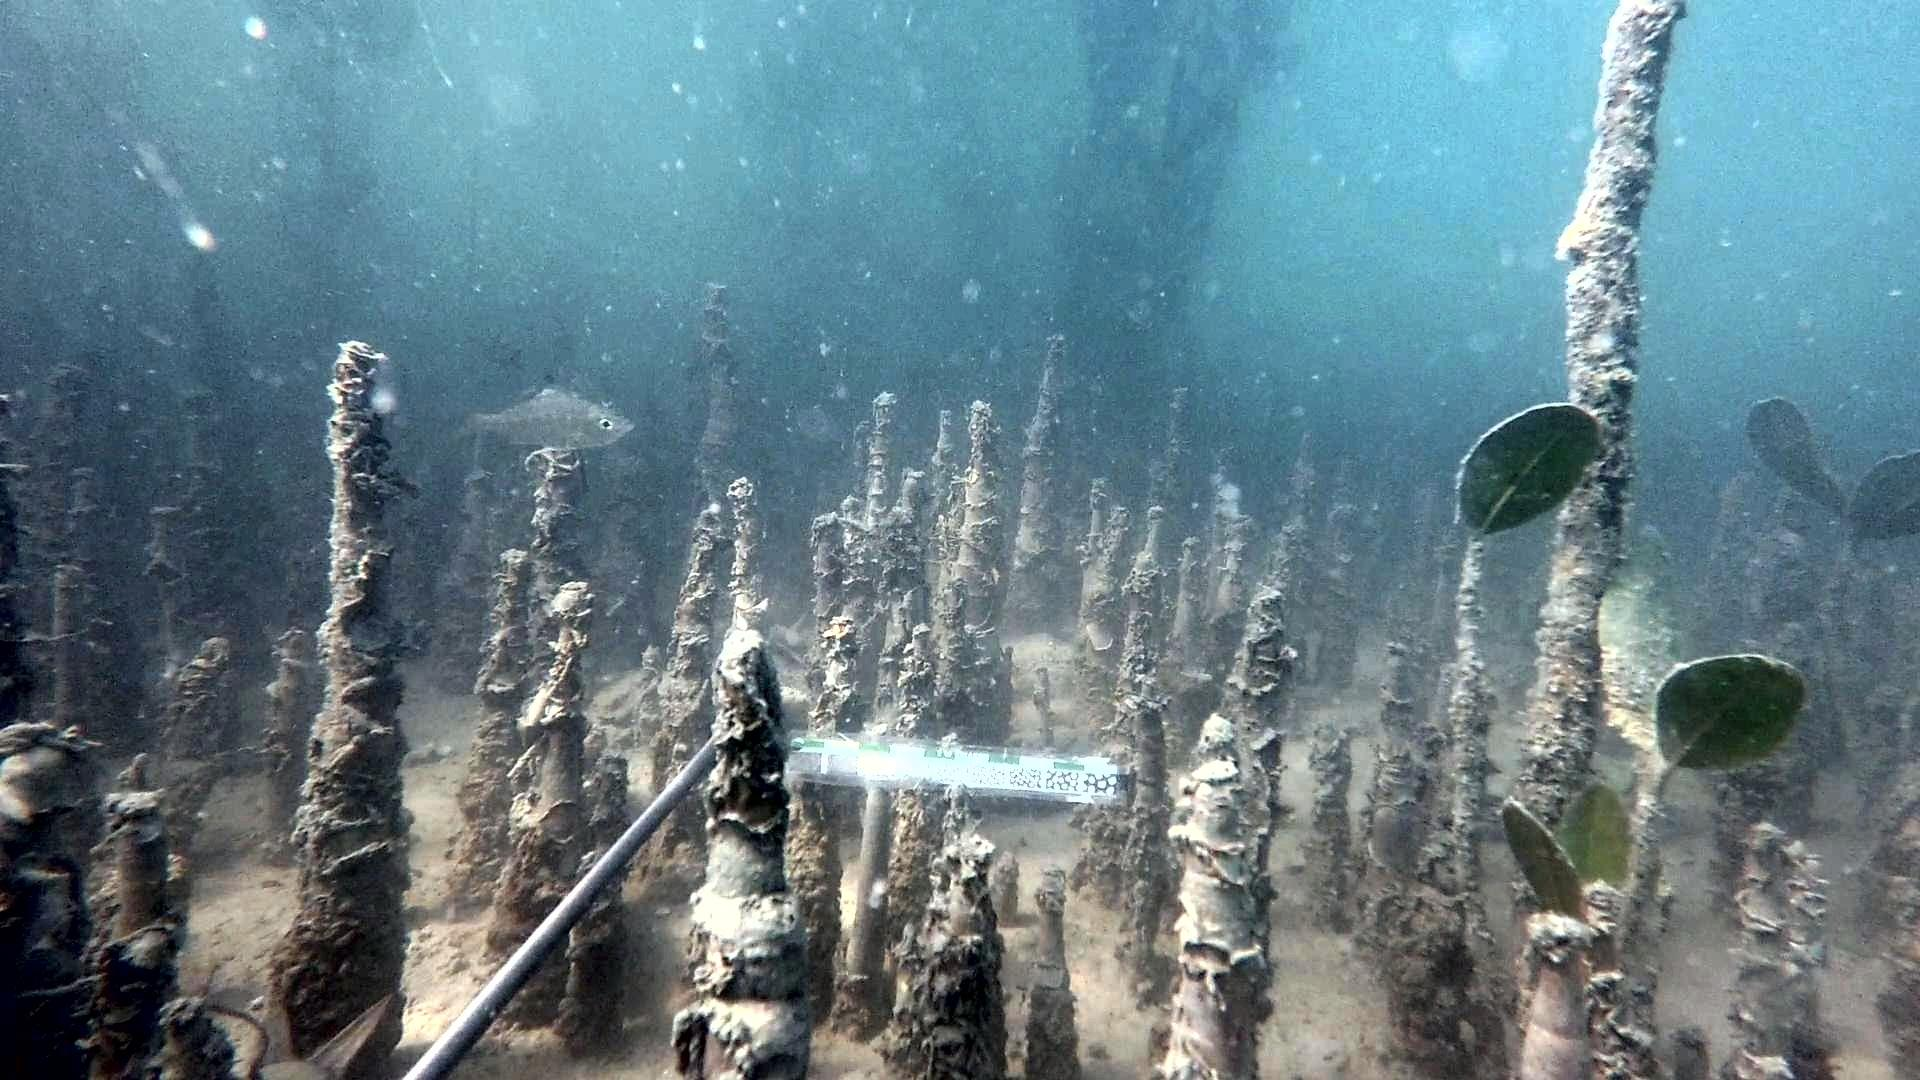gerres: (443, 372, 637, 454)
